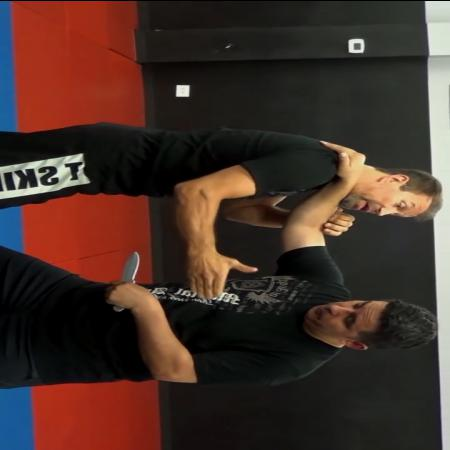long weapon: (106, 248, 146, 312)
